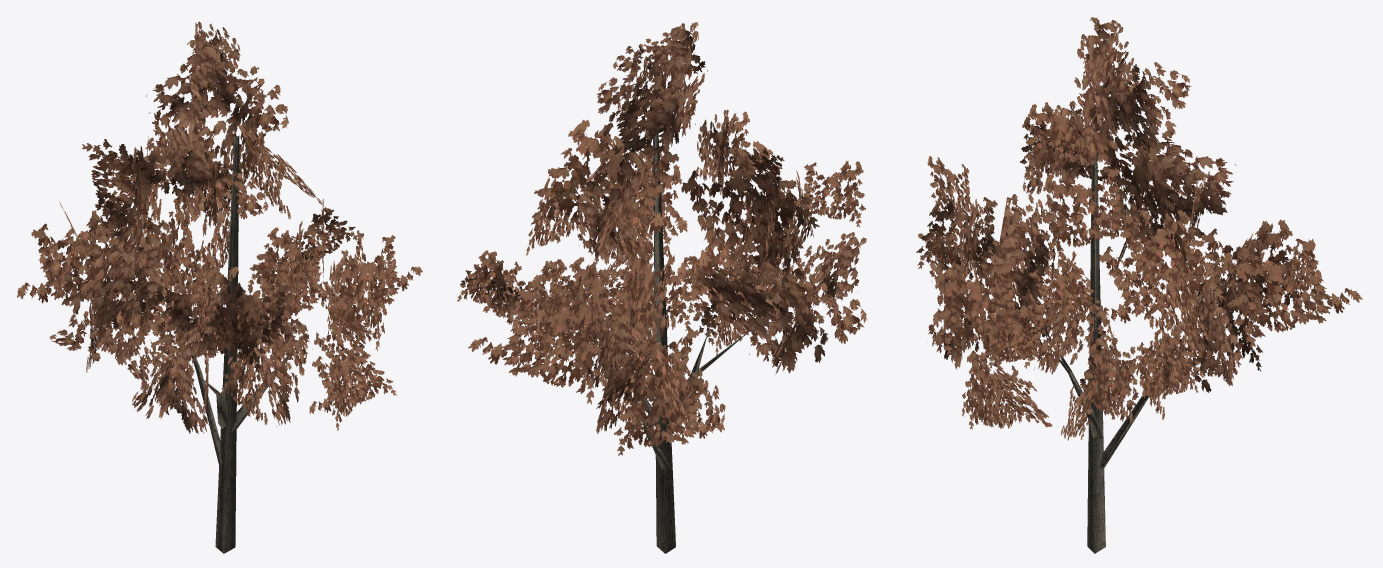
Rendered from Vegetation_Tree02c_lod2.glb.
3 views of the same model, side by side, from view 1: azimuth 30°, elevation 25°; view 2: azimuth 150°, elevation 25°; view 3: azimuth 270°, elevation 25° (orthographic). The views are drawn at different scales.
Visible parts, largest first — view 1: zw_tree02c_lod2_0; view 2: zw_tree02c_lod2_0; view 3: zw_tree02c_lod2_0.
Part boxes in pixels (box(x1,y1,x2,y2)): zw_tree02c_lod2_0: box(17, 21, 422, 553); zw_tree02c_lod2_0: box(457, 22, 867, 553); zw_tree02c_lod2_0: box(916, 17, 1362, 553).
Size of the model in its own units: 9.61 by 14.1 by 11.22.
2 materials, 2 textured.
